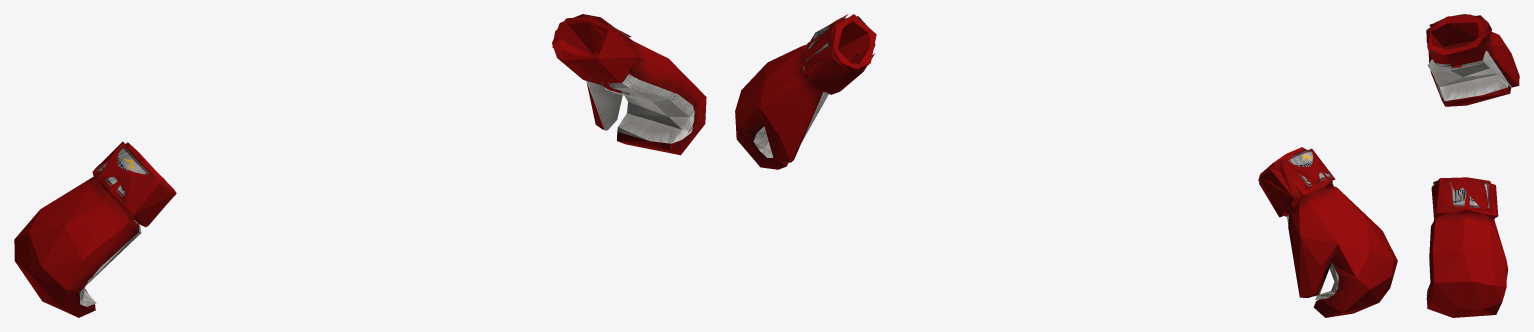
The model's file is Boxing.obj.
3 renders of one model, left to right at view 1: azimuth 30°, elevation 25°; view 2: azimuth 150°, elevation 25°; view 3: azimuth 270°, elevation 25°, orthographic. The views are drawn at different scales.
Visible parts, largest first — view 1: Box02_Untitled.005; view 2: Box02_Untitled.005; view 3: Box02_Untitled.005.
Boxes of the visible parts, bbox=[...] form: Box02_Untitled.005: bbox=[14, 14, 706, 317]; Box02_Untitled.005: bbox=[735, 14, 1397, 317]; Box02_Untitled.005: bbox=[1426, 14, 1519, 317].
Bounding box in the file's own units: 1.61 × 0.3911 × 0.2518.
